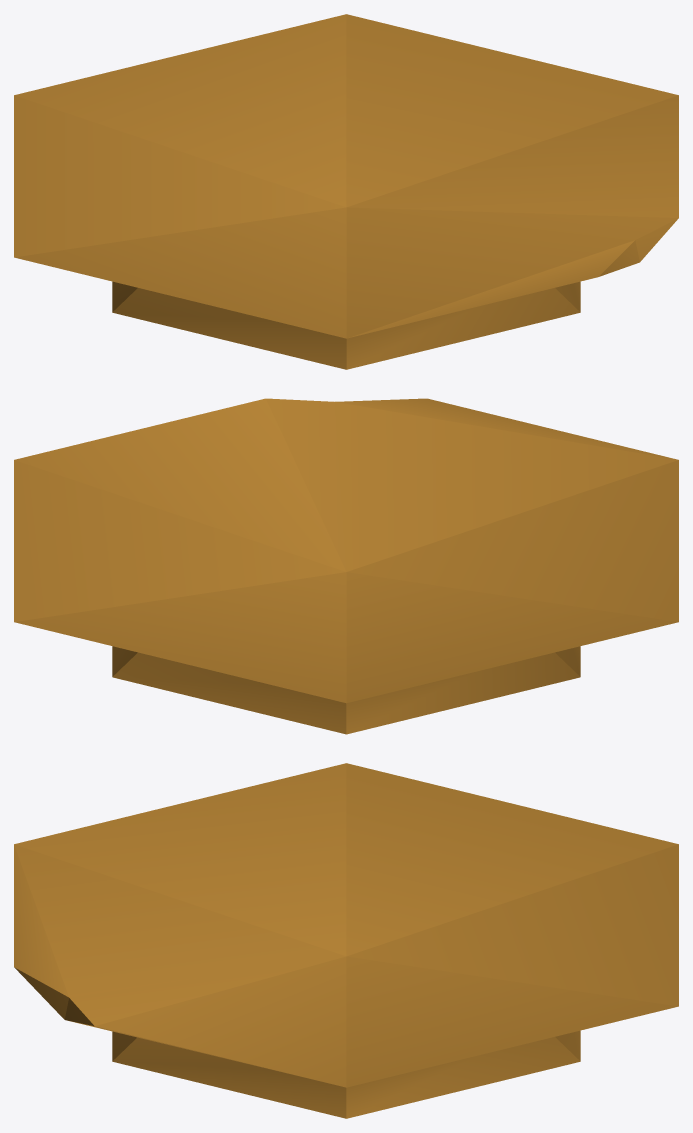
The model's file is obj_plateSmall.FBX.
3 renders of one model, top to bottom at view 1: azimuth 30°, elevation 25°; view 2: azimuth 150°, elevation 25°; view 3: azimuth 270°, elevation 25°, orthographic.
Parts seen in each view (by area): view 1: obj_plateSmall; view 2: obj_plateSmall; view 3: obj_plateSmall.
Boxes of the visible parts, <box> form: obj_plateSmall: <box>14,14,678,369</box>; obj_plateSmall: <box>14,398,678,734</box>; obj_plateSmall: <box>14,763,678,1118</box>.
Bounding box in the file's own units: 0.6797 × 0.0783 × 0.5886.
